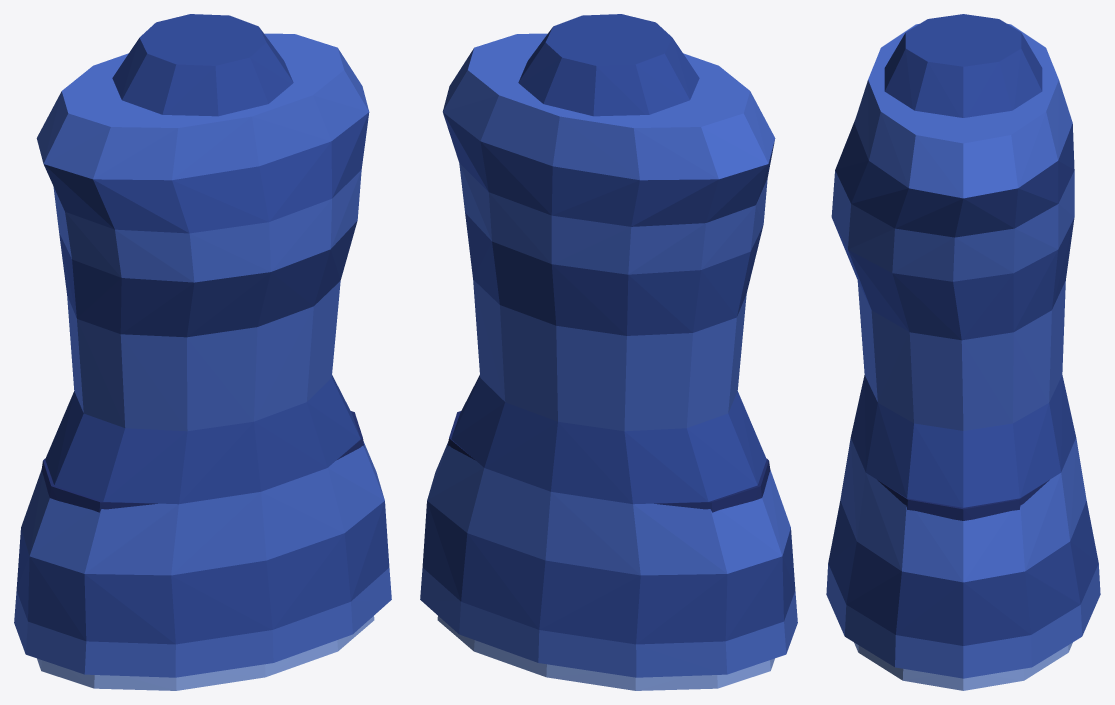
Rendered from gear_mithril_chainbody_torso_f.glb.
3 views of the same model, side by side, from view 1: azimuth 30°, elevation 25°; view 2: azimuth 150°, elevation 25°; view 3: azimuth 270°, elevation 25° (orthographic). The views are drawn at different scales.
Parts seen in each view (by area): view 1: gear_mithril_chainbody_torso_f; view 2: gear_mithril_chainbody_torso_f; view 3: gear_mithril_chainbody_torso_f.
Part boxes in pixels (<box>): gear_mithril_chainbody_torso_f: <box>14,14,391,690</box>; gear_mithril_chainbody_torso_f: <box>420,14,797,690</box>; gear_mithril_chainbody_torso_f: <box>826,14,1100,690</box>.
Size of the model in its own units: 0.458 by 0.73 by 0.316.
